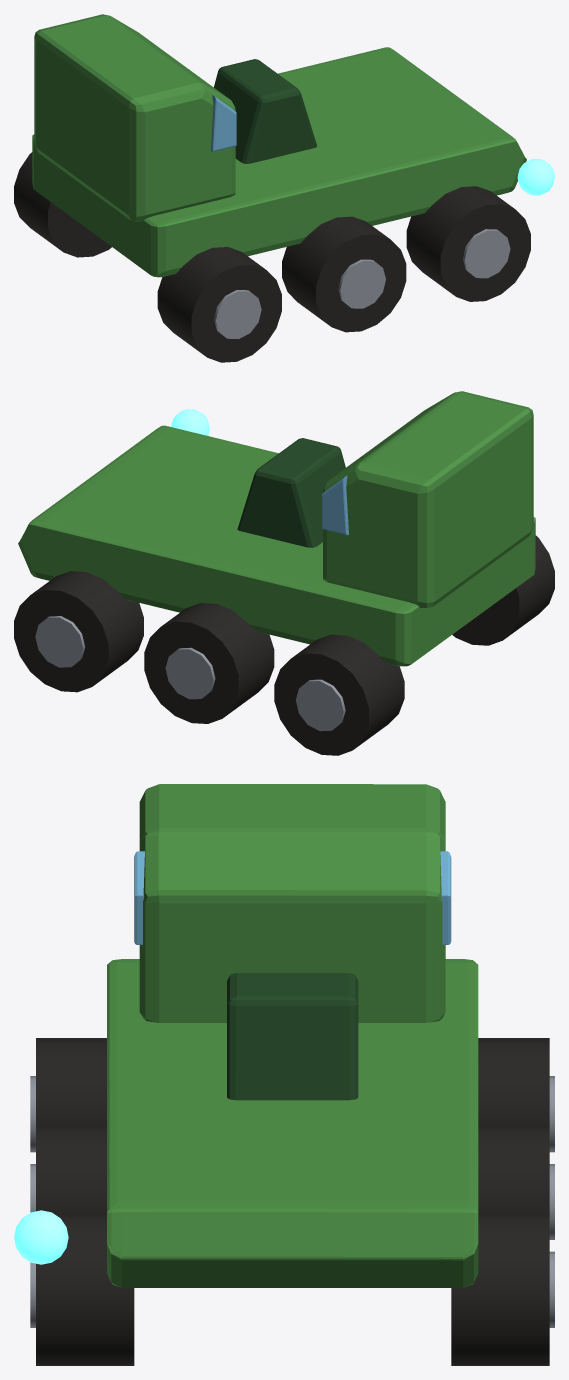
Rendered from nuke_r.glb.
3 renders of one model, top to bottom at view 1: azimuth 30°, elevation 25°; view 2: azimuth 150°, elevation 25°; view 3: azimuth 270°, elevation 25°, orthographic. The views are drawn at different scales.
Visible parts, largest first — view 1: deck, cab, wheel.004, wheel.002, wheel, bracket, wheel.001, hub.004, hub.002, hub, window, lamp; view 2: deck, cab, wheel.003, wheel.001, wheel.005, bracket, wheel, hub.005, hub.001, hub.003, window, lamp; view 3: deck, cab, bracket, wheel.005, wheel.004, wheel.003, wheel.001, wheel.002, wheel, lamp, window.
Part boxes in pixels (x1,y1,x2,y2): deck: (32,47,526,277); cab: (34,14,235,221); wheel.004: (406,186,530,301); wheel.002: (282,216,406,332); wheel: (157,247,281,362); bracket: (214,59,317,163); wheel.001: (14,152,111,257); hub.004: (463,229,510,278); hub.002: (338,259,385,308); hub: (214,290,261,339); window: (210,95,236,151); lamp: (517,158,554,195); deck: (18,425,535,666); cab: (323,391,533,607); wheel.003: (144,603,274,723); wheel.001: (274,634,404,755); wheel.005: (14,571,143,692); bracket: (237,438,345,547); wheel: (452,535,554,645); hub.005: (35,616,84,667); hub.001: (295,679,345,731); hub.003: (165,647,215,699); window: (322,475,348,535); lamp: (171,409,209,435); deck: (107,959,478,1287); cab: (139,784,445,1022); bracket: (227,973,358,1100); wheel.005: (451,1213,549,1365); wheel.004: (36,1213,134,1365); wheel.003: (478,1125,549,1213); wheel.001: (478,1038,549,1125); wheel.002: (36,1125,106,1213); wheel: (36,1038,106,1125); lamp: (14,1210,68,1264); window: (134,851,451,944).
Size of the model in its own units: 11.7 by 7.2 by 9.9.
